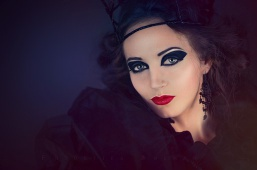female: (119, 37, 208, 122)
